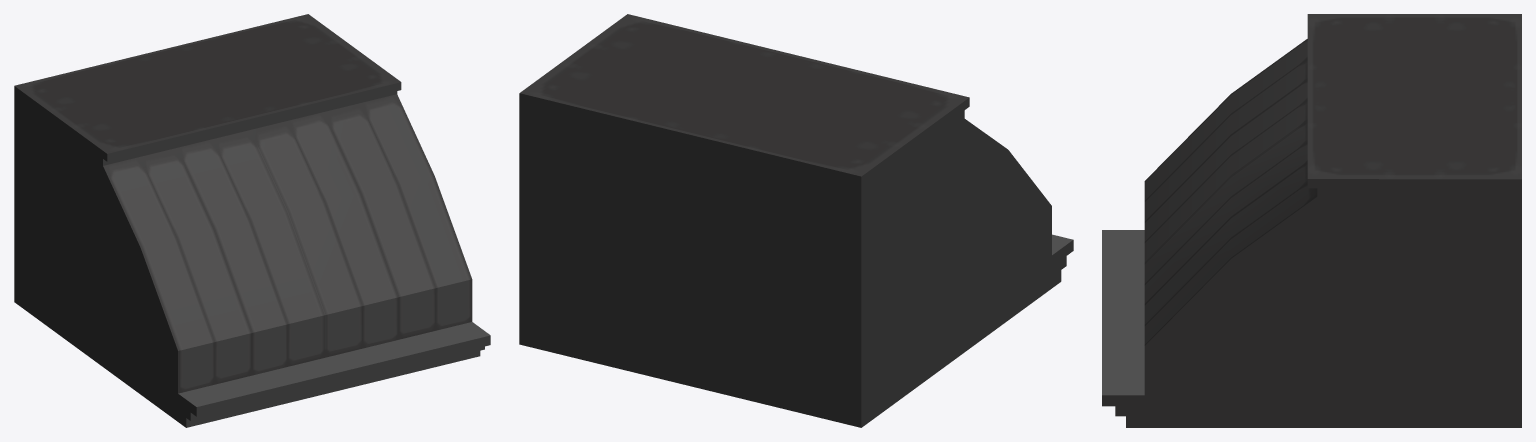
File: RoofTop_D10.fbx
The picture shows the model from 3 angles, left to right: view 1: azimuth 30°, elevation 25°; view 2: azimuth 150°, elevation 25°; view 3: azimuth 270°, elevation 25°; orthographic projection. The views are drawn at different scales.
Parts seen in each view (by area): view 1: RoofTop_D10; view 2: RoofTop_D10; view 3: RoofTop_D10.
Boxes of the visible parts, bbox=[...] form: RoofTop_D10: bbox=[14, 14, 490, 427]; RoofTop_D10: bbox=[519, 14, 1073, 427]; RoofTop_D10: bbox=[1102, 14, 1521, 427].
Bounding box in the file's own units: 236 × 166 × 254.
1 material, 1 textured.
